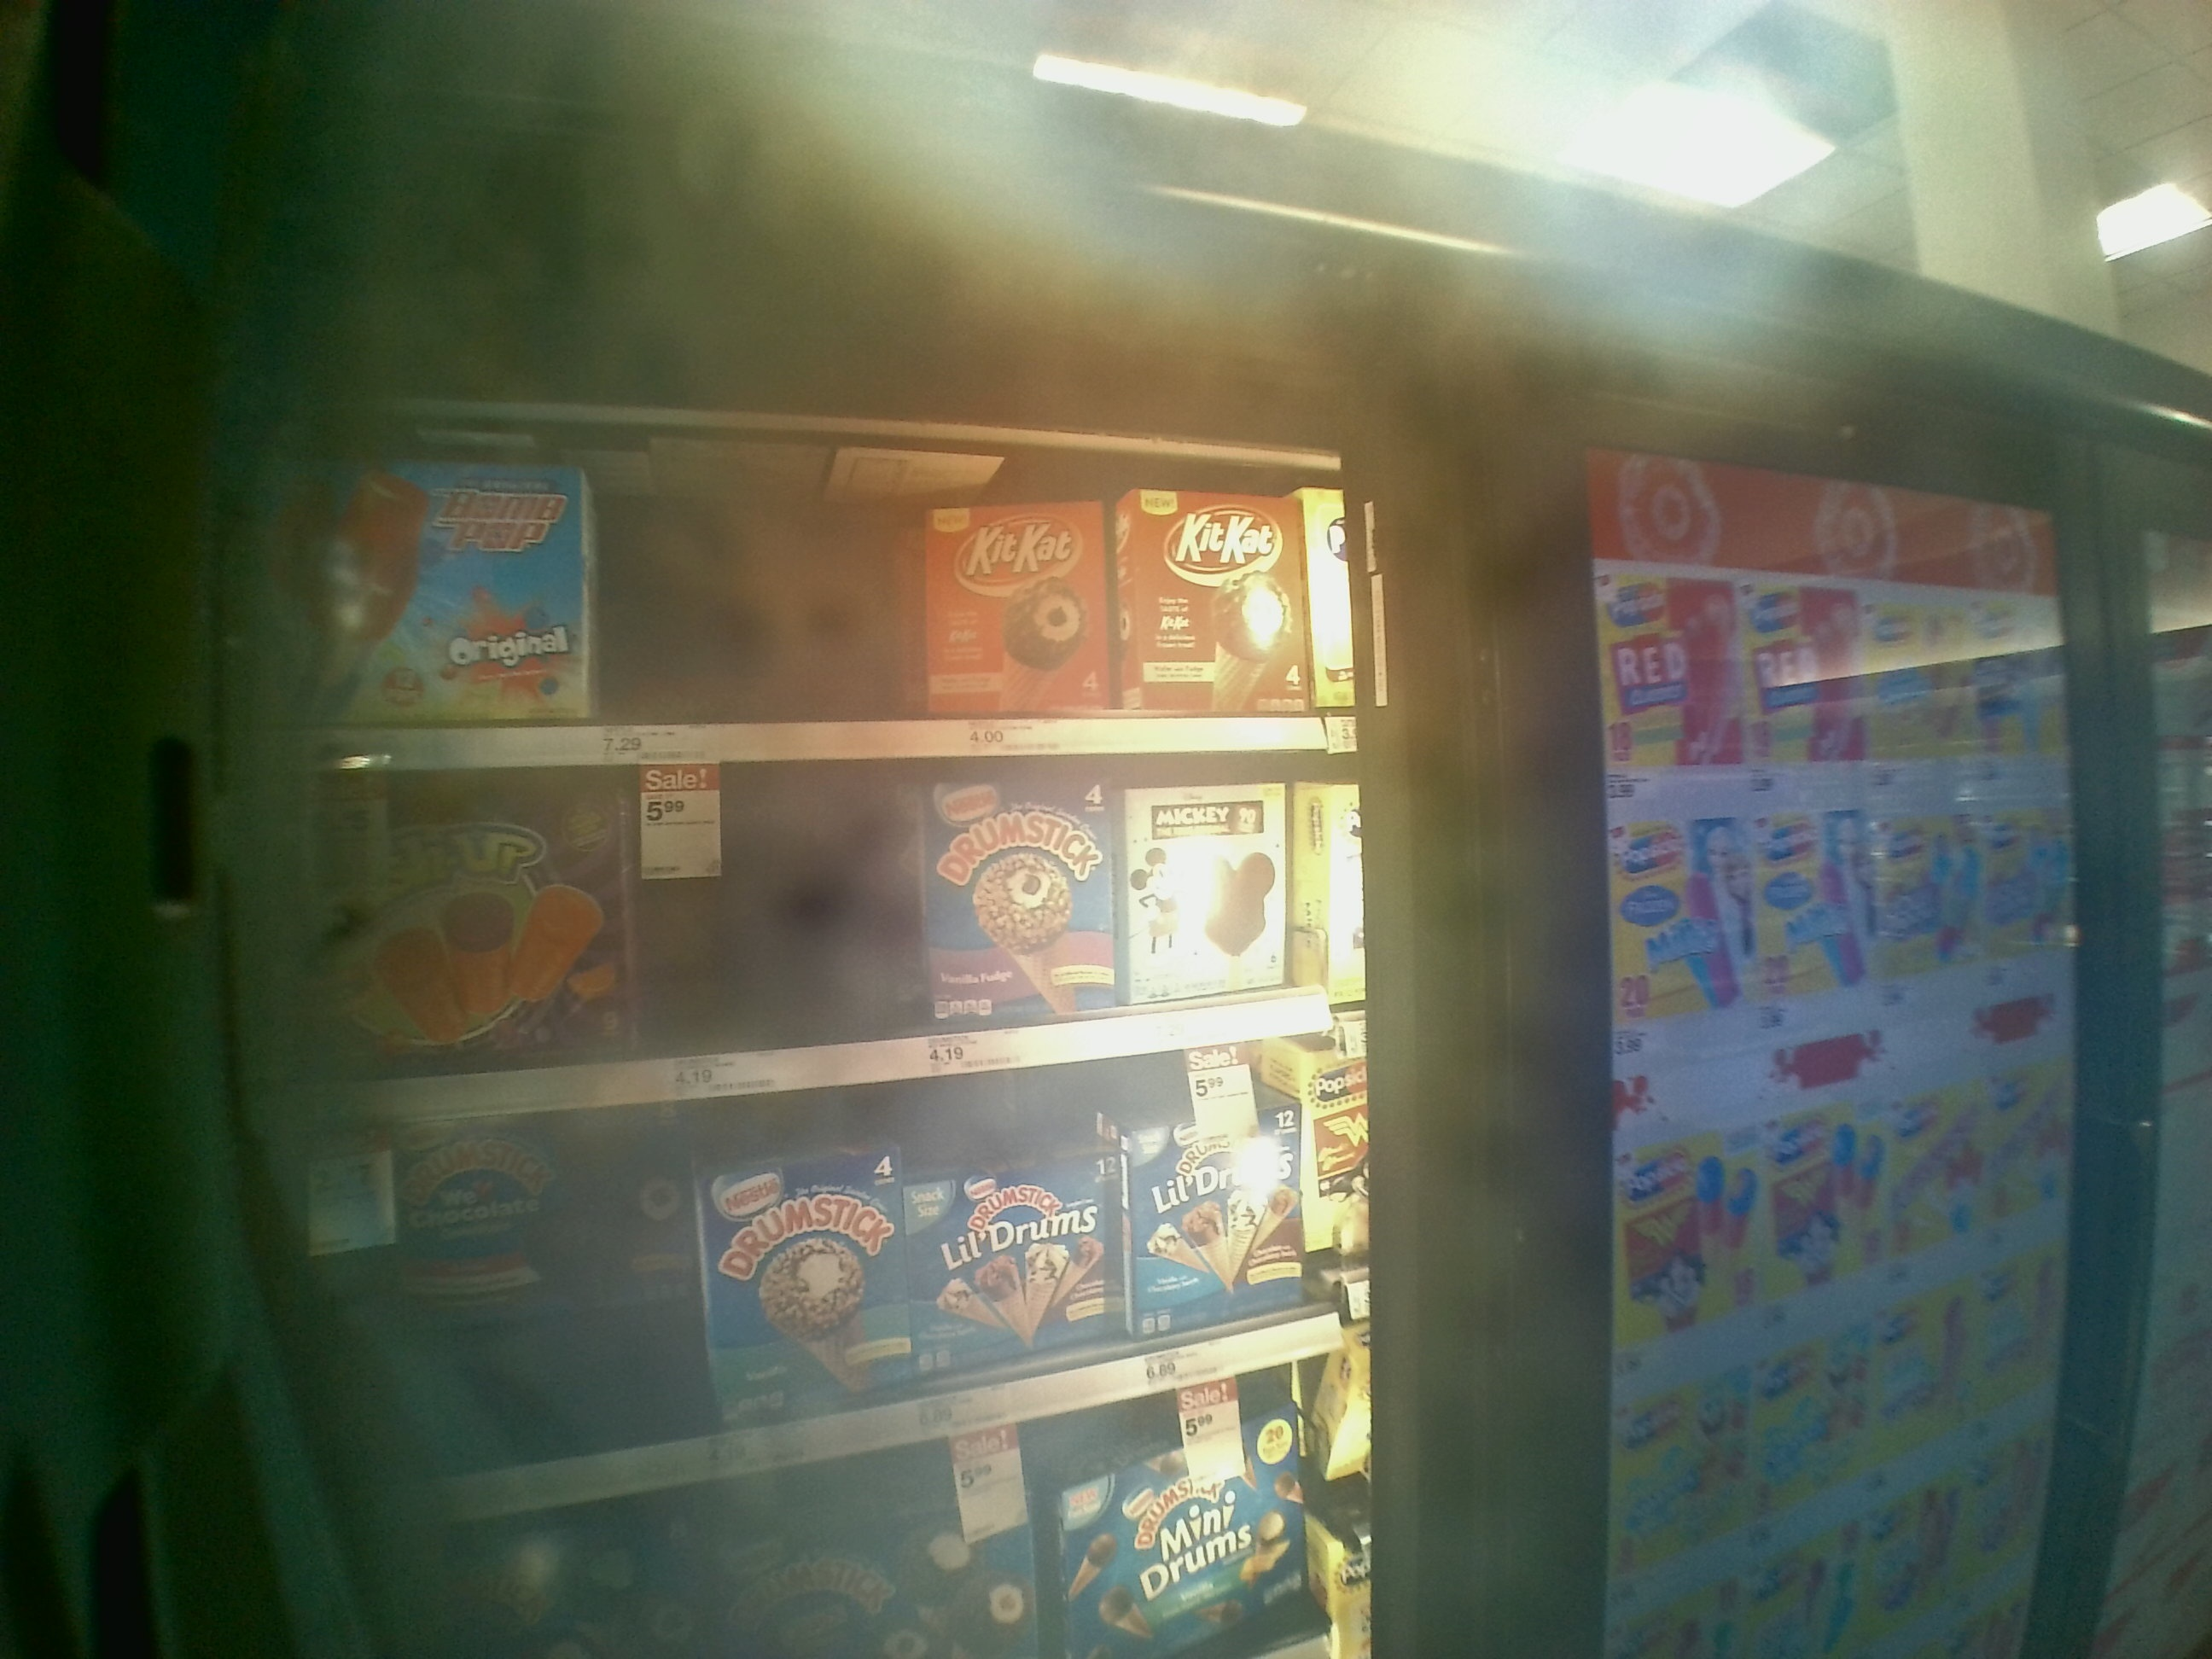shelf: (355, 1030, 1378, 1520), (350, 756, 1379, 1108), (343, 420, 1359, 751)
